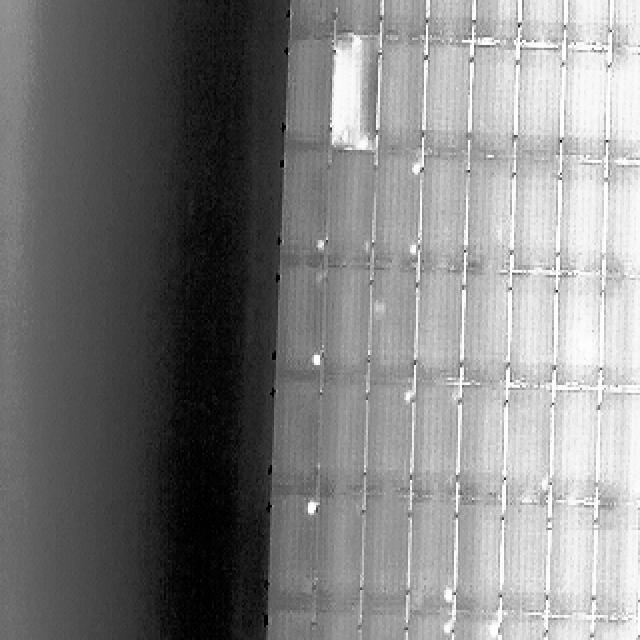Hotspots: (332, 34, 373, 154), (308, 232, 330, 259), (439, 582, 459, 610), (574, 328, 595, 354), (303, 494, 322, 520), (398, 389, 418, 411), (486, 614, 502, 640), (308, 346, 323, 369), (410, 158, 423, 181), (407, 239, 421, 260), (441, 621, 458, 638), (538, 476, 549, 497)
PV-modules: (588, 388, 640, 618), (280, 144, 333, 268), (277, 256, 326, 386), (364, 377, 416, 499), (371, 34, 420, 159), (408, 492, 458, 612), (370, 265, 421, 380), (273, 375, 321, 497), (467, 155, 516, 274), (288, 32, 336, 152), (324, 258, 371, 380), (416, 266, 465, 383), (373, 148, 422, 265), (514, 154, 562, 273), (320, 376, 368, 495), (507, 383, 554, 503), (590, 278, 640, 390), (332, 38, 379, 157), (464, 272, 512, 388), (329, 147, 376, 265), (362, 491, 410, 606), (271, 493, 319, 607), (550, 503, 596, 621), (551, 385, 597, 503), (317, 494, 366, 604), (412, 380, 457, 499), (458, 386, 504, 502), (562, 47, 608, 160), (471, 41, 515, 159), (457, 502, 503, 614), (560, 158, 604, 275), (423, 154, 465, 276), (520, 44, 566, 155), (424, 41, 468, 157), (507, 502, 550, 620), (554, 275, 597, 390), (515, 274, 558, 388), (600, 388, 640, 510), (600, 278, 640, 392), (606, 160, 640, 275), (608, 50, 640, 160), (520, 0, 566, 48), (564, 0, 608, 50), (426, 0, 470, 48), (470, 0, 516, 45), (382, 0, 430, 42), (338, 0, 384, 40), (290, 0, 336, 40), (267, 606, 316, 640), (317, 605, 364, 640), (610, 0, 640, 52), (361, 608, 409, 640), (408, 610, 456, 640), (453, 614, 504, 640), (500, 614, 549, 640), (546, 615, 595, 640), (592, 617, 640, 640), (638, 620, 640, 640)
